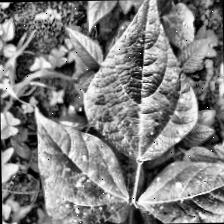Bean Rust: (82, 0, 202, 159), (34, 103, 126, 224), (138, 159, 224, 224)
